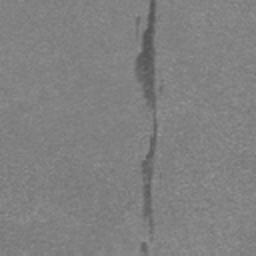Red iron sheet: (135, 0, 157, 110), (141, 119, 157, 228), (141, 243, 147, 254)
